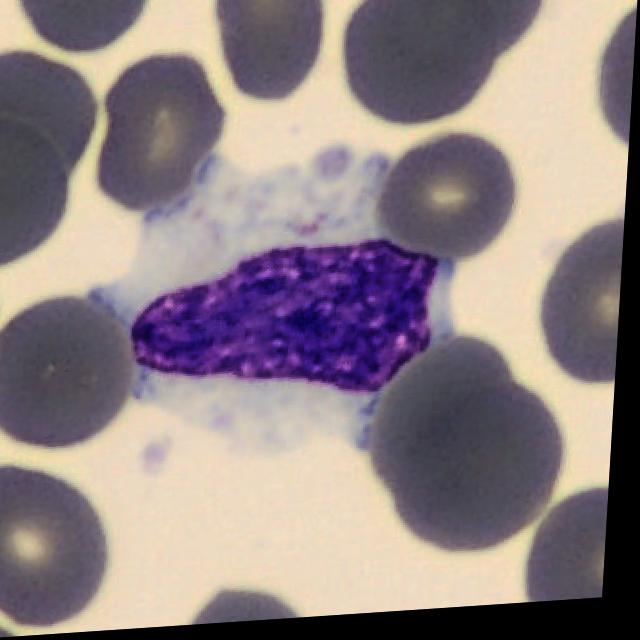Linfocito atipico: (92, 150, 444, 456)
